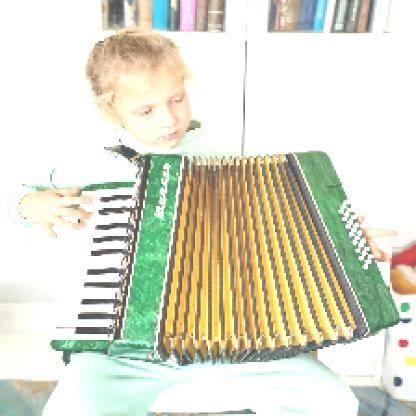child: (1, 28, 362, 416)
